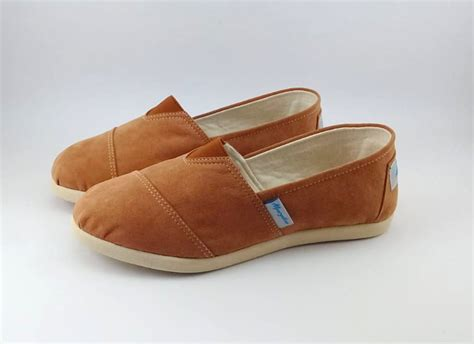gamuza: (51, 86, 399, 260)
